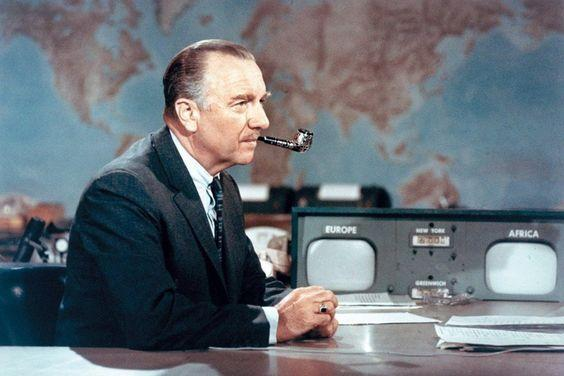trubka: (258, 128, 313, 151)
